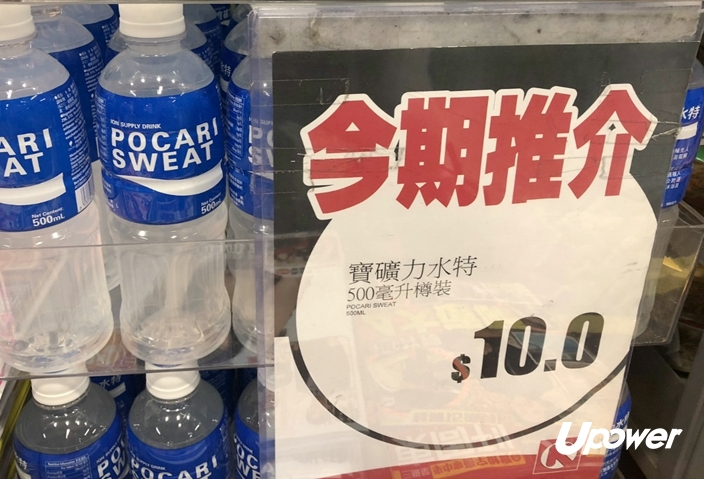POCARI SWEAT: (95, 1, 230, 360)
